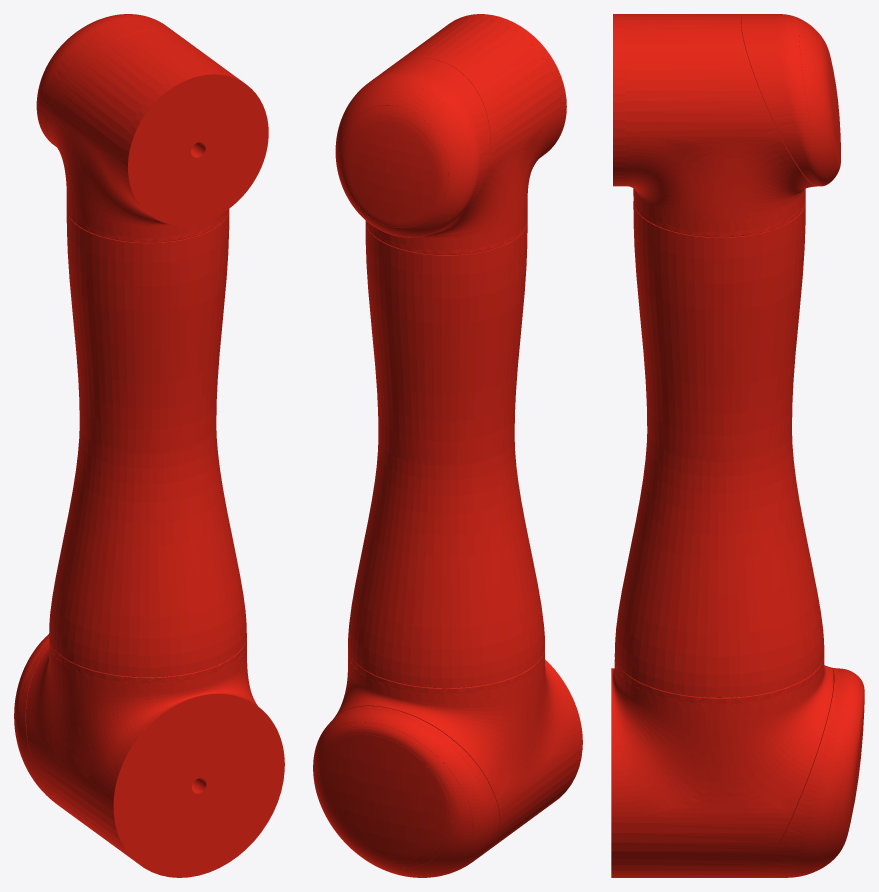
3 renders of one model, left to right at view 1: azimuth 30°, elevation 25°; view 2: azimuth 150°, elevation 25°; view 3: azimuth 270°, elevation 25°, orthographic. The views are drawn at different scales.
Visible parts, largest first — view 1: JointTwo.002; view 2: JointTwo.002; view 3: JointTwo.002.
Boxes of the visible parts, bbox=[...] form: JointTwo.002: bbox=[14, 14, 284, 877]; JointTwo.002: bbox=[313, 14, 582, 877]; JointTwo.002: bbox=[611, 14, 864, 877].
Size of the model in its own units: 0.118 by 0.1427 by 0.5255.
